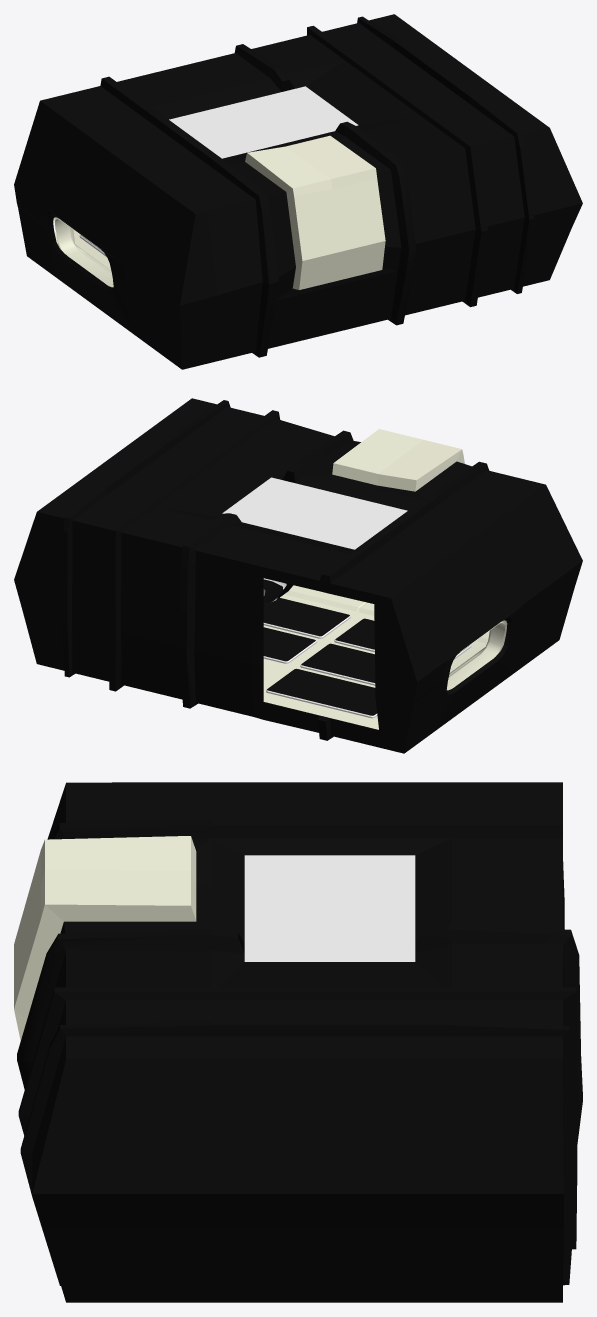
File: Sala_Bedroom.FBX
3 renders of one model, top to bottom at view 1: azimuth 30°, elevation 25°; view 2: azimuth 150°, elevation 25°; view 3: azimuth 270°, elevation 25°, orthographic. The views are drawn at different scales.
Parts seen in each view (by area): view 1: Roof_bedr1; view 2: Roof_bedr1; view 3: Roof_bedr1.
Boxes of the visible parts, left/top/right/bottom form: Roof_bedr1: left=14, top=14, right=582, bottom=369; Roof_bedr1: left=14, top=398, right=582, bottom=753; Roof_bedr1: left=14, top=782, right=582, bottom=1302.
Bounding box in the file's own units: 1915 × 778 × 1460.
